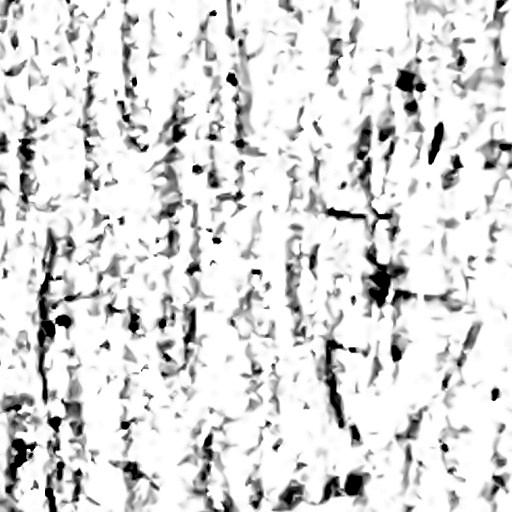egg: (12, 438, 34, 467), (430, 122, 442, 163), (42, 320, 54, 336), (56, 314, 70, 327), (391, 343, 401, 361), (49, 416, 60, 431), (226, 72, 237, 86)
